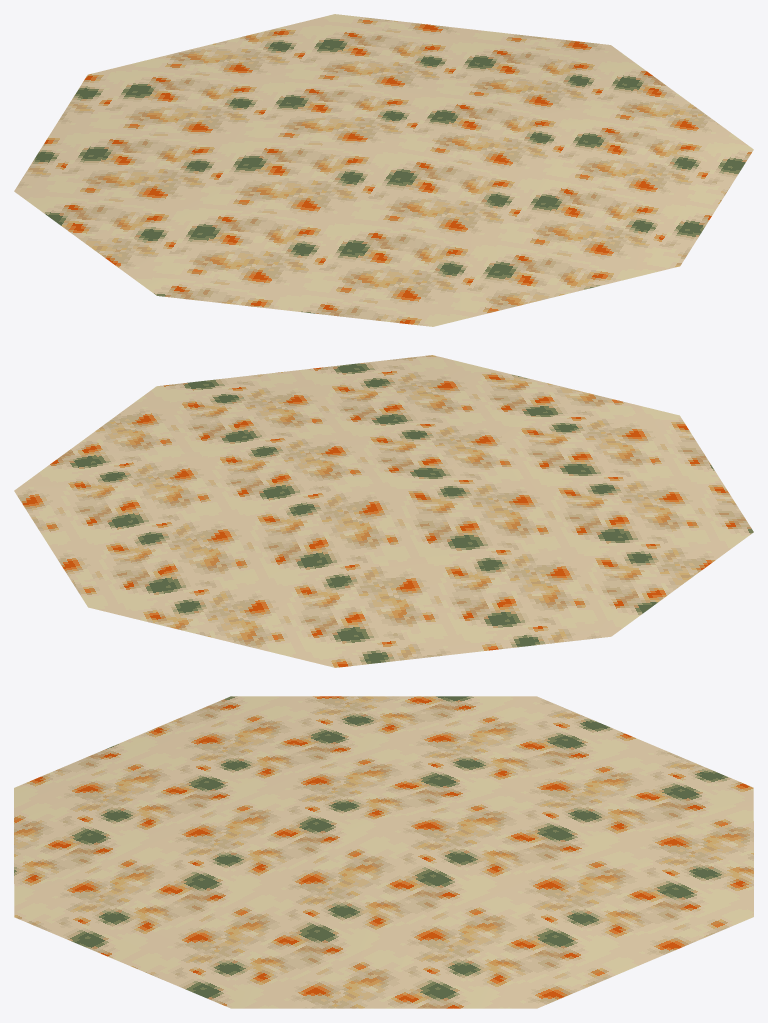
File: 1102item573.gltf
3 renders of one model, top to bottom at view 1: azimuth 30°, elevation 25°; view 2: azimuth 150°, elevation 25°; view 3: azimuth 270°, elevation 25°, orthographic. The views are drawn at different scales.
Visible parts, largest first — view 1: 1102item573; view 2: 1102item573; view 3: 1102item573.
Part boxes in pixels (x1=…): 1102item573: x1=14, y1=14, x2=753, y2=326; 1102item573: x1=14, y1=355, x2=753, y2=667; 1102item573: x1=14, y1=696, x2=753, y2=1008.
Size of the model in its own units: 0.5031 by 0.0186 by 0.5031.
Materials: 1 (1 with a texture image).
